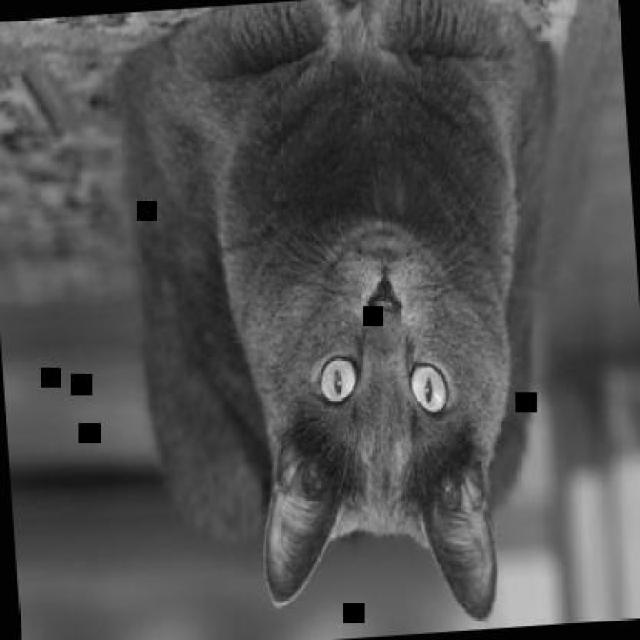cat: (112, 0, 596, 638)
